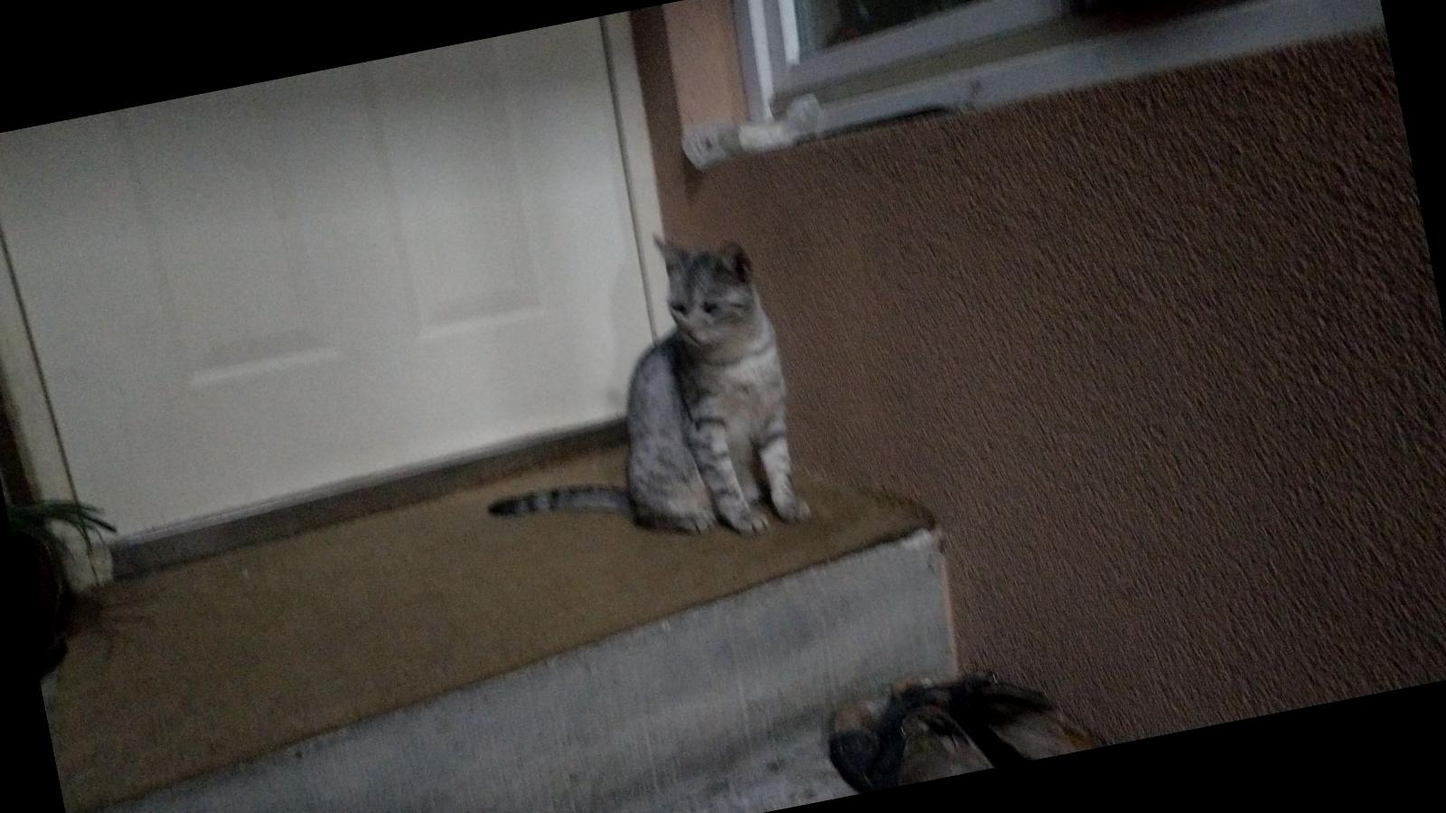macka: (443, 215, 812, 585)
